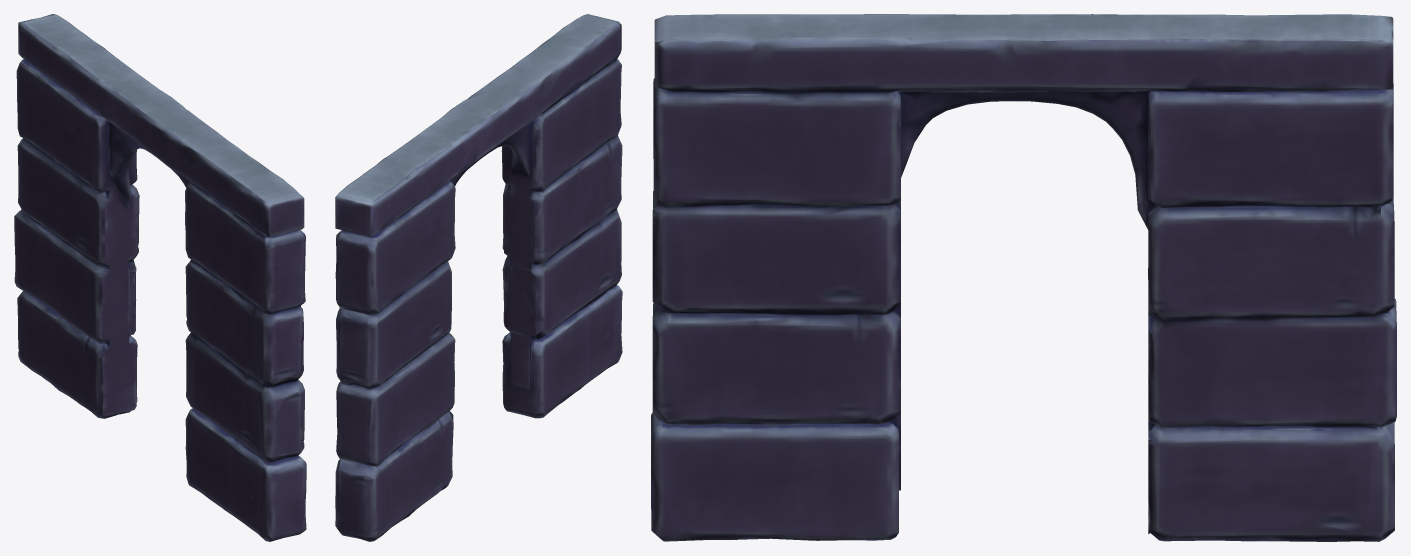
Rendered from WallDoor.FBX.
3 renders of one model, left to right at view 1: azimuth 30°, elevation 25°; view 2: azimuth 150°, elevation 25°; view 3: azimuth 270°, elevation 25°, orthographic. The views are drawn at different scales.
Visible parts, largest first — view 1: Wall4_01; view 2: Wall4_01; view 3: Wall4_01.
Boxes of the visible parts, x1,y1,x2,y2 form: Wall4_01: (14,14,306,541); Wall4_01: (335,14,622,541); Wall4_01: (651,14,1396,541).
Bounding box in the file's own units: 0.6175 × 4.49 × 6.02.
Materials: 1 (1 with a texture image).
